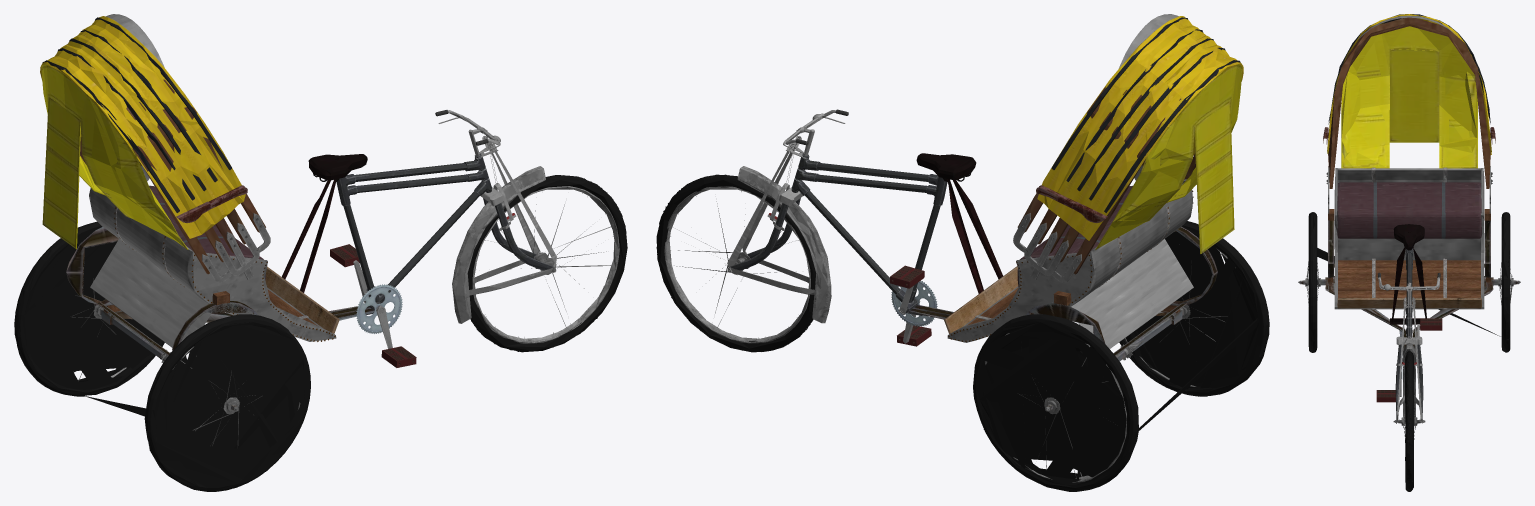
File: rickshaw.glb
3 views of the same model, side by side, from view 1: azimuth 30°, elevation 25°; view 2: azimuth 150°, elevation 25°; view 3: azimuth 270°, elevation 25° (orthographic). The views are drawn at different scales.
Parts seen in each view (by area): view 1: body, wheel_rear, wheel_front; view 2: body, wheel_rear, wheel_front; view 3: body, wheel_rear, wheel_front.
Boxes of the visible parts, <box> form: body: <box>40,14,556,410</box>; wheel_rear: <box>14,221,310,491</box>; wheel_front: <box>467,175,627,352</box>; body: <box>727,14,1243,410</box>; wheel_rear: <box>973,221,1269,491</box>; wheel_front: <box>656,174,816,352</box>; body: <box>1300,14,1518,423</box>; wheel_rear: <box>1298,212,1520,352</box>; wheel_front: <box>1393,351,1425,491</box>.
Bounding box in the file's own units: 6.48 × 4.72 × 2.99.
39 materials, 37 textured.
